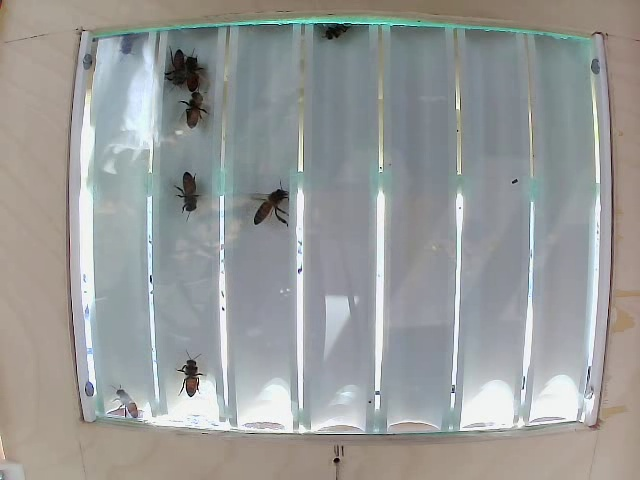bee: (162, 165, 210, 222), (252, 184, 295, 239), (179, 86, 217, 135), (322, 12, 363, 49), (172, 356, 209, 396), (178, 59, 210, 101), (155, 47, 187, 87)
